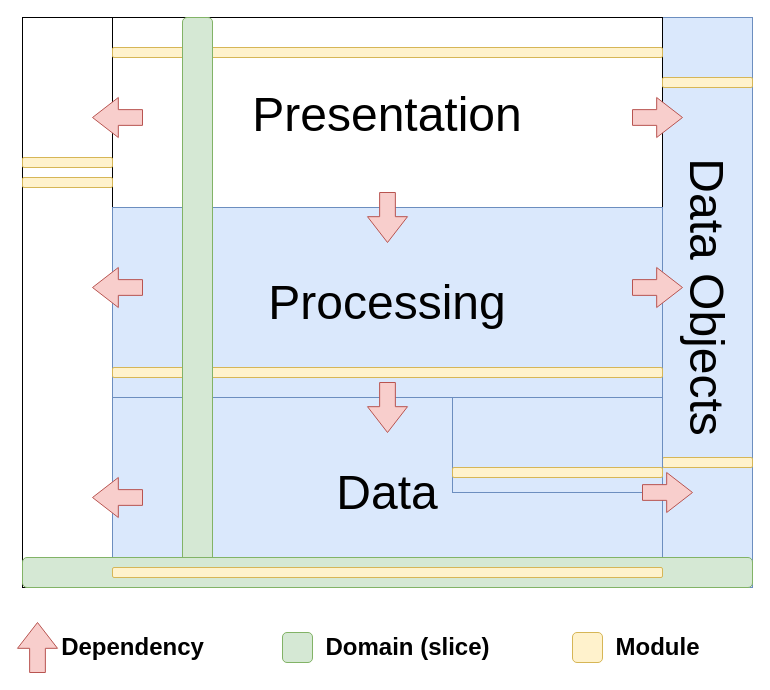
Some shapes in this 770 by 690 pixel diagram are drawn without their labels. The centre of each missing label's shape, as x and y in pixels:
Communications: (557,444)
System: (67,302)
